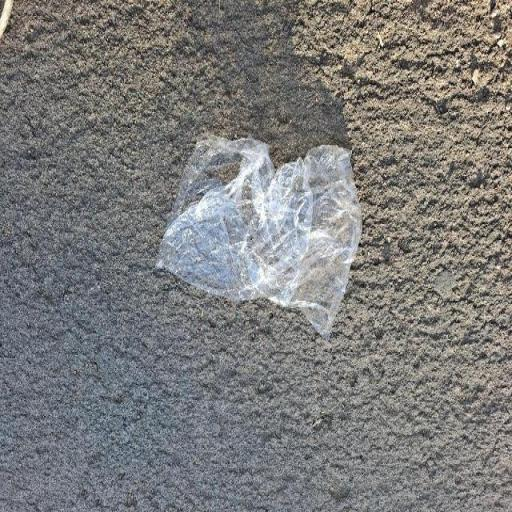plastic-bag: (150, 134, 364, 345)
